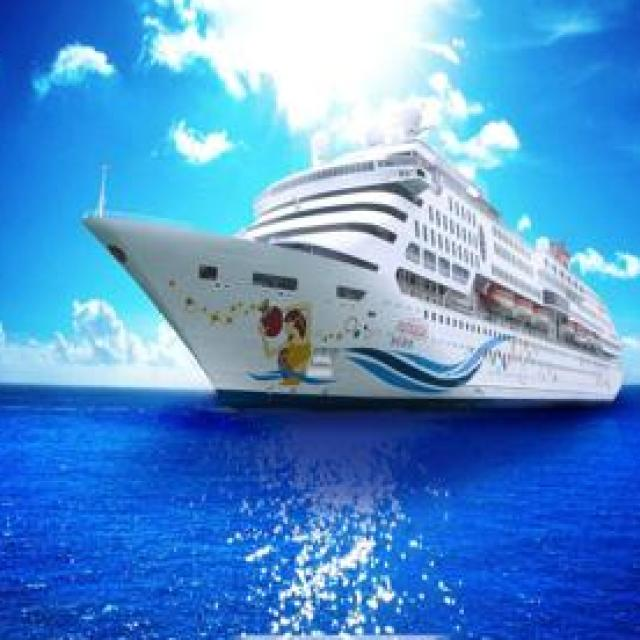passenger ship: (80, 120, 632, 414)
